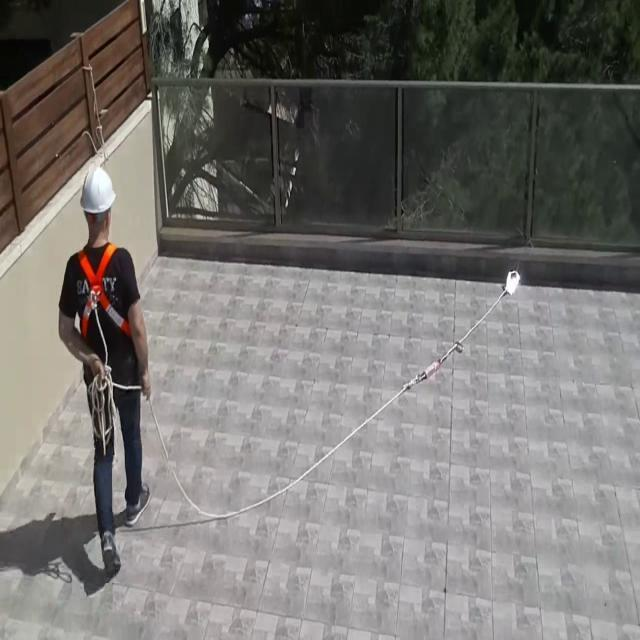Harness: (140, 272, 521, 532), (77, 243, 131, 338)
